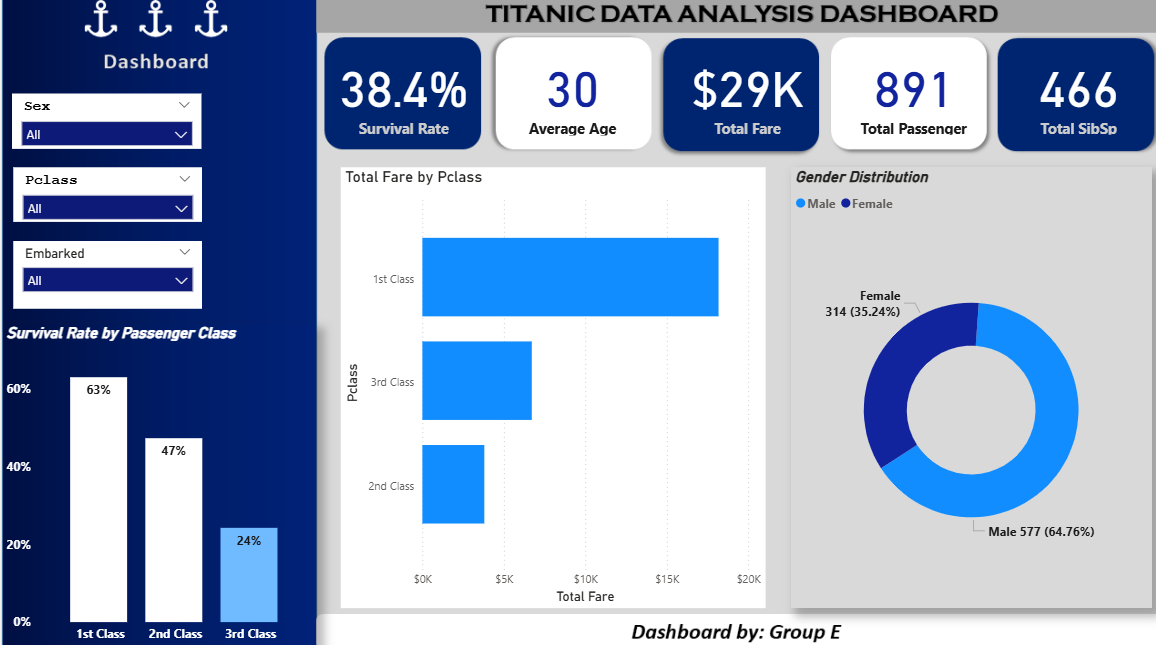

The page's visual inventory and layout, read from the dashboard file:
{"tool":"powerbi","page":{"name":"Dashboard","canvas":[1280,720],"ordinal":0},"visuals":[{"type":"card","fields":{"Values":["Titanic.Survival Rate"]},"box":[361.4,56.4,160.5,101.2],"z":0},{"type":"card","fields":{"Values":["Titanic.Average Age"]},"box":[546.1,56.3,160.5,101.5],"z":1000},{"type":"donutChart","title":"Gender Distribution","fields":{"Category":["Titanic.Sex"],"Y":["Titanic.Total Passenger"]},"box":[865.9,188,396.6,484.4],"z":2000},{"type":"clusteredColumnChart","title":"Survival Rate by Passenger Class","fields":{"Category":["Titanic.Pclass"],"Y":["Titanic.Survival Rate by Class"]},"box":[0,360,344.1,360],"z":3000},{"type":"slicer","fields":{"Values":["Titanic.Sex"]},"box":[11.6,107,208.2,60.7],"z":4000},{"type":"slicer","fields":{"Values":["Titanic.Pclass"]},"box":[12.3,188,207.2,60.4],"z":5000},{"type":"card","fields":{"Values":["Titanic.Total Passenger"]},"box":[921,56.4,160.5,101.2],"z":6000},{"type":"card","fields":{"Values":["Titanic.Total Fare"]},"box":[738.8,56.4,160.5,101.2],"z":7000},{"type":"card","fields":{"Values":["Titanic.Total SibSp"]},"box":[1101.7,56.4,160.5,101.2],"z":8000},{"type":"slicer","fields":{"Values":["Titanic.Embarked"]},"box":[12.3,269,207.2,74.1],"z":9000},{"type":"barChart","fields":{"Y":["Titanic.Total Fare"],"Category":["Titanic.Pclass"]},"box":[371.9,188,466.6,484.4],"z":10000}]}

Visuals, with their boxes in screenshot pixels (x1, y1, x2, y2), scaled from the page's 1280x720 canvas onto the 1156x645 screenshot:
card - Titanic.Survival Rate: (326, 51, 471, 141)
card - Titanic.Average Age: (493, 50, 638, 141)
"Gender Distribution" donutChart: (782, 168, 1140, 602)
"Survival Rate by Passenger Class" clusteredColumnChart: (0, 322, 311, 644)
slicer - Titanic.Sex: (10, 96, 199, 150)
slicer - Titanic.Pclass: (11, 168, 198, 223)
card - Titanic.Total Passenger: (832, 51, 977, 141)
card - Titanic.Total Fare: (667, 51, 812, 141)
card - Titanic.Total SibSp: (995, 51, 1140, 141)
slicer - Titanic.Embarked: (11, 241, 198, 307)
barChart - Titanic.Total Fare x Titanic.Pclass: (336, 168, 757, 602)
